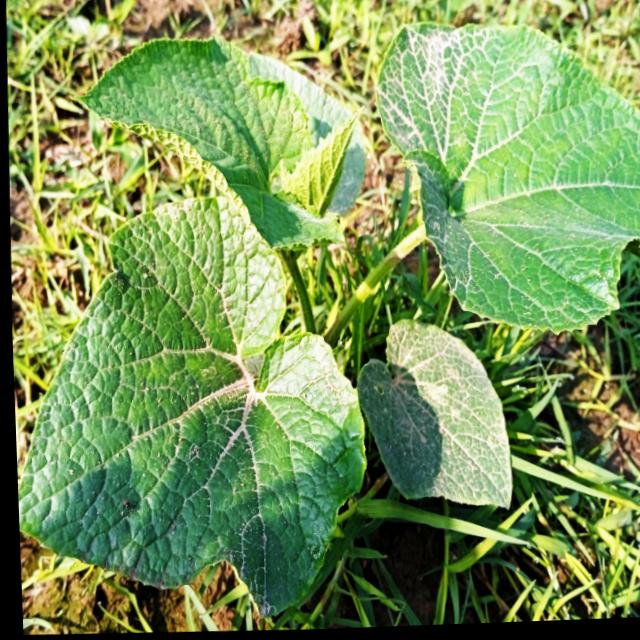Fresh-Leaf: (18, 192, 368, 623), (68, 32, 346, 252)
